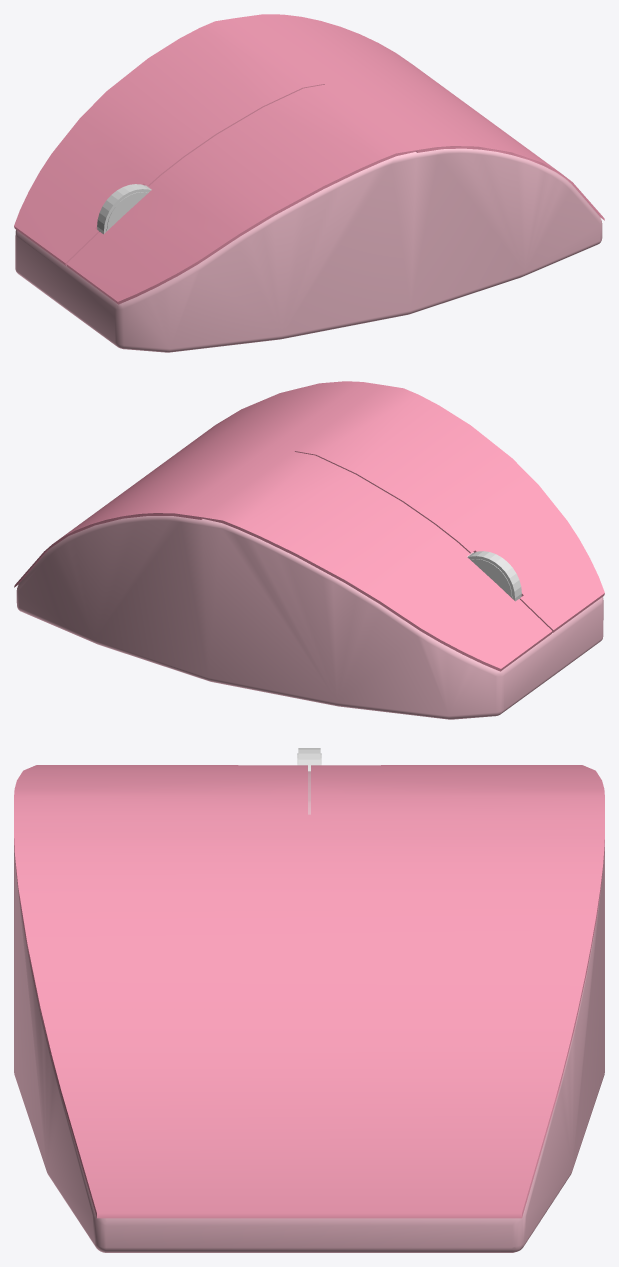
The model's file is Chater03_Mouse.fbx.
3 renders of one model, top to bottom at view 1: azimuth 30°, elevation 25°; view 2: azimuth 150°, elevation 25°; view 3: azimuth 270°, elevation 25°, orthographic. The views are drawn at different scales.
Visible parts, largest first — view 1: Mouse.Button, Mouse.Body, Mouse.Wheel; view 2: Mouse.Button, Mouse.Body, Mouse.Wheel; view 3: Mouse.Button, Mouse.Body.
Part boxes in pixels (bbox=[...]): Mouse.Button: bbox=[14, 14, 604, 304]; Mouse.Body: bbox=[15, 148, 602, 352]; Mouse.Wheel: bbox=[97, 184, 151, 234]; Mouse.Button: bbox=[14, 381, 604, 671]; Mouse.Body: bbox=[16, 516, 603, 719]; Mouse.Wheel: bbox=[467, 551, 521, 601]; Mouse.Button: bbox=[14, 765, 604, 1218]; Mouse.Body: bbox=[14, 771, 604, 1252].
Size of the model in its own units: 339 by 114 by 224.
